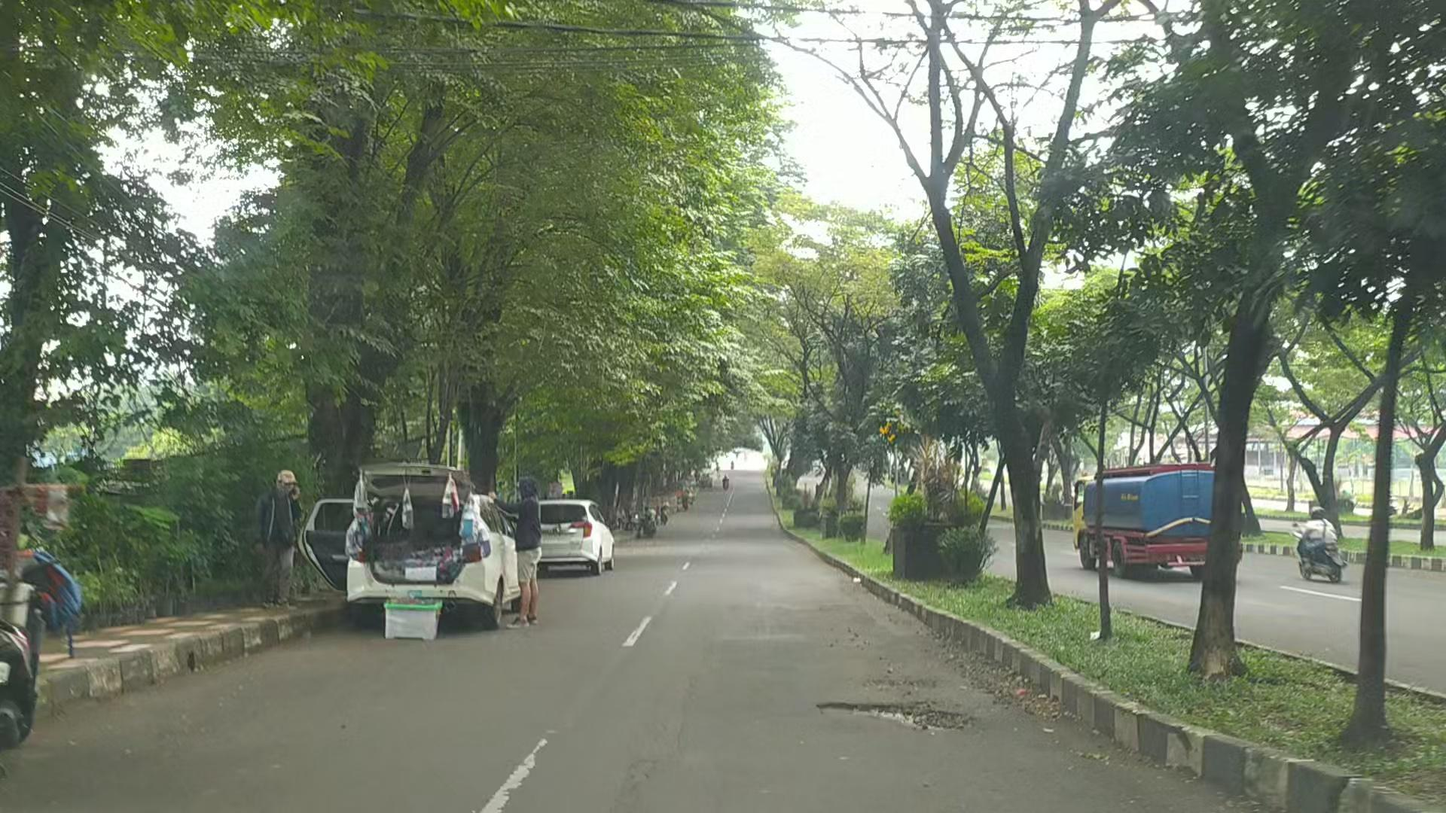pothole: (814, 699, 975, 734)
